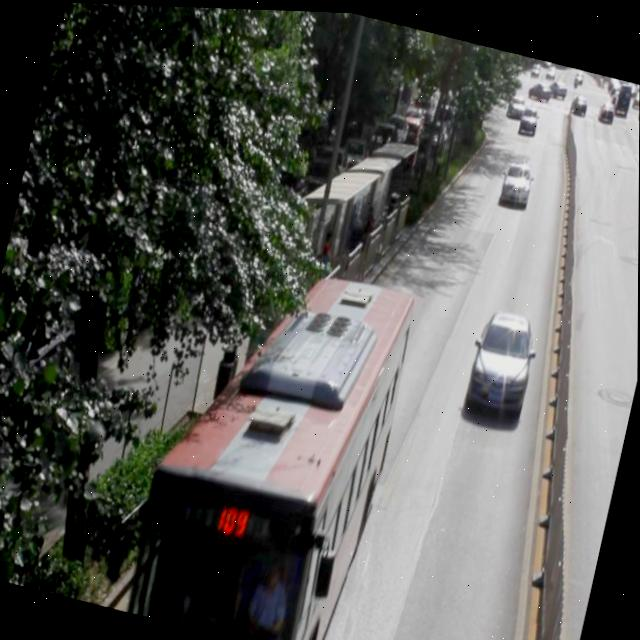car: (463, 300, 540, 409), (496, 154, 534, 203)
van: (123, 235, 417, 640)
